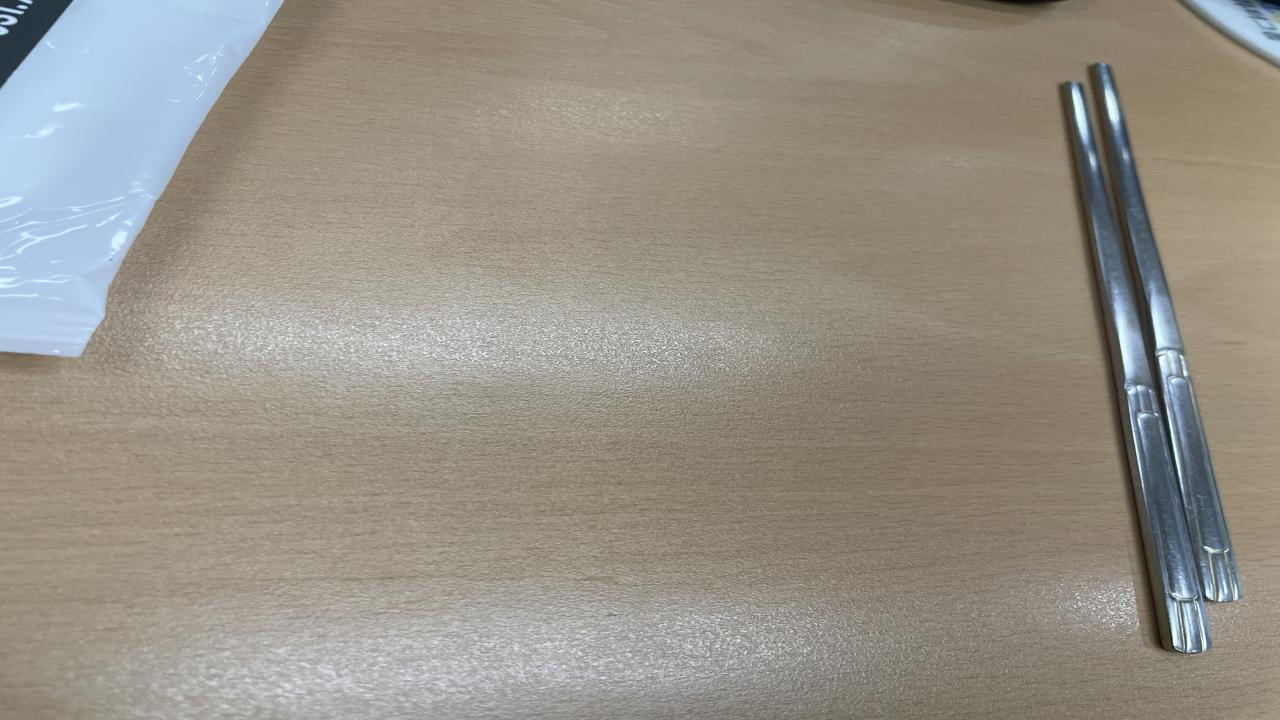chopstick: (1060, 59, 1253, 654)
